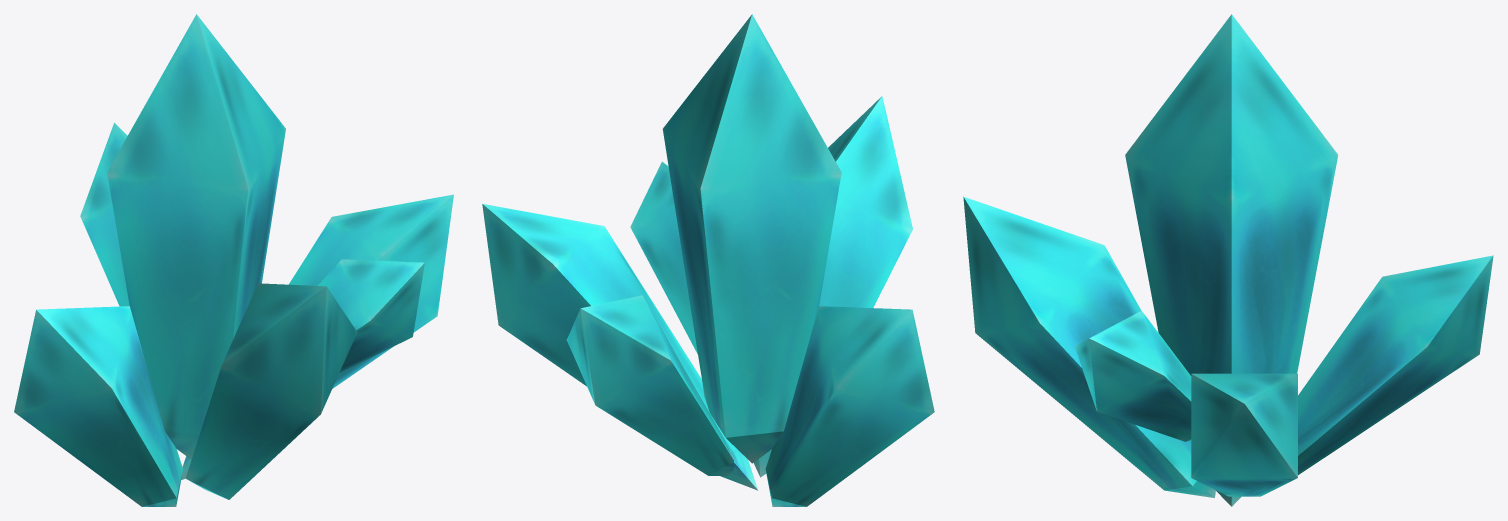
The model's file is kuangshi.fbx.
3 views of the same model, side by side, from view 1: azimuth 30°, elevation 25°; view 2: azimuth 150°, elevation 25°; view 3: azimuth 270°, elevation 25° (orthographic). The views are drawn at different scales.
Parts seen in each view (by area): view 1: kuangshi; view 2: kuangshi; view 3: kuangshi.
Boxes of the visible parts, x1,y1,x2,y2 form: kuangshi: (14,14,453,506); kuangshi: (482,14,934,506); kuangshi: (963,14,1493,506).
Bounding box in the file's own units: 13.84 × 14.46 × 13.81.
